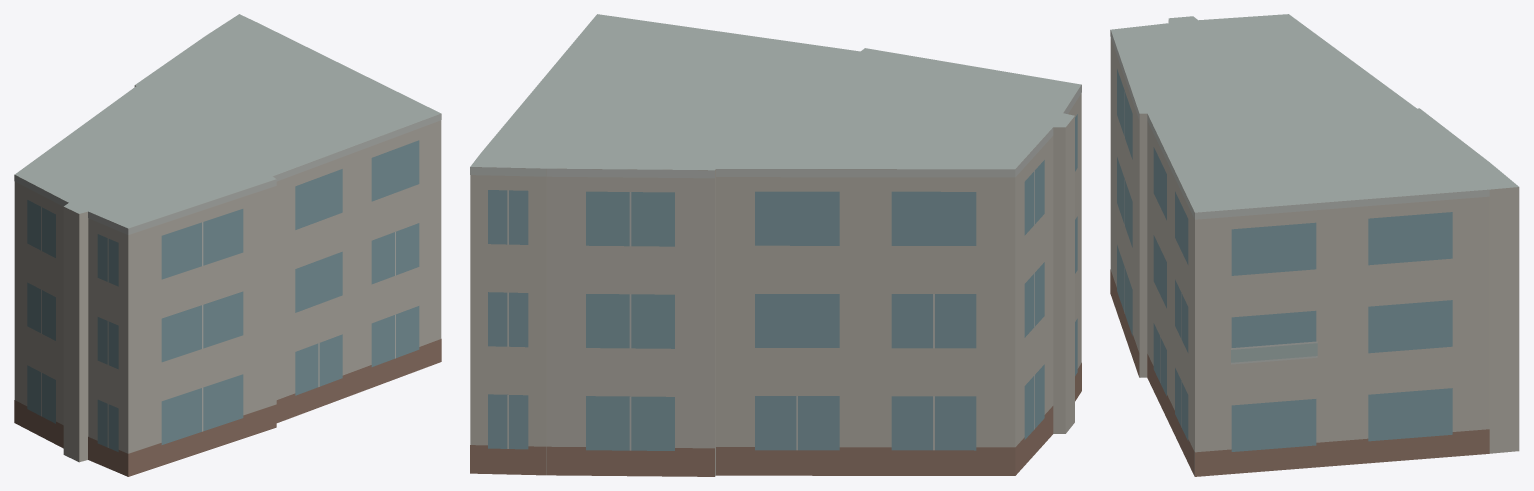
The model's file is survey-upis-32479376.glb.
3 views of the same model, side by side, from view 1: azimuth 30°, elevation 25°; view 2: azimuth 150°, elevation 25°; view 3: azimuth 270°, elevation 25° (orthographic). The views are drawn at different scales.
Visible parts, largest first — view 1: survey-upis-32479376.tmp; view 2: survey-upis-32479376.tmp; view 3: survey-upis-32479376.tmp.
Part boxes in pixels (x1,y1,x2,y2): survey-upis-32479376.tmp: [14, 14, 441, 476]; survey-upis-32479376.tmp: [470, 14, 1081, 476]; survey-upis-32479376.tmp: [1110, 14, 1519, 476].
Bounding box in the file's own units: 14.77 × 9.15 × 12.84.
